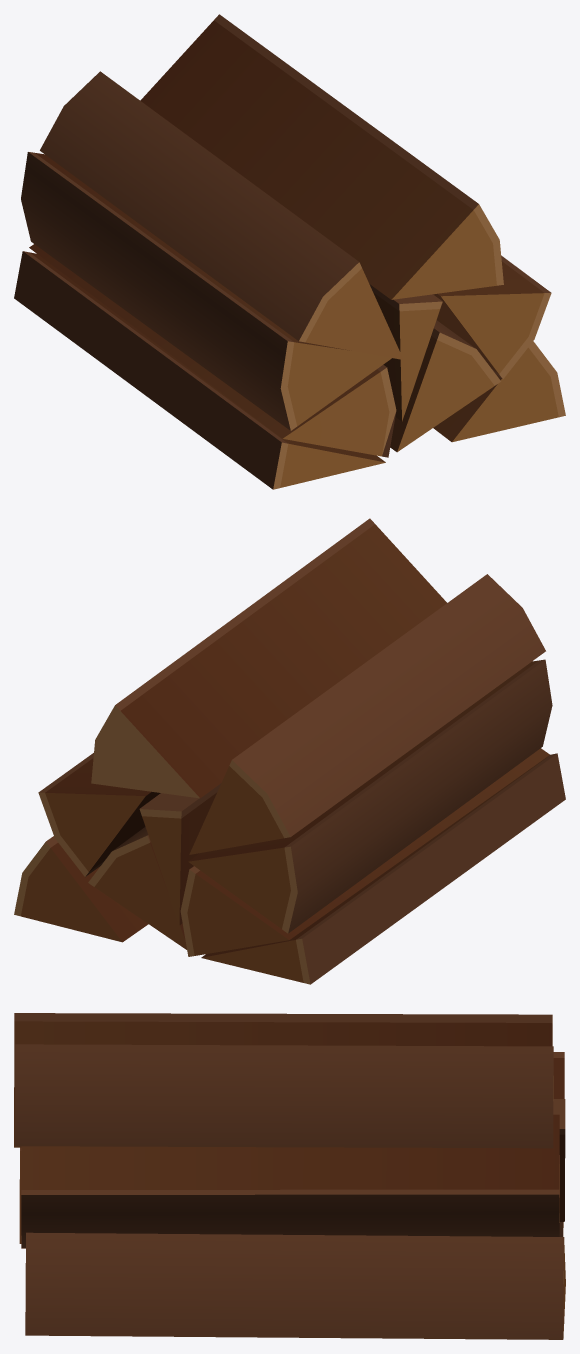
Rendered from firewood.fbx.
The picture shows the model from 3 angles, top to bottom: view 1: azimuth 30°, elevation 25°; view 2: azimuth 150°, elevation 25°; view 3: azimuth 270°, elevation 25°; orthographic projection. The views are drawn at different scales.
Parts seen in each view (by area): view 1: firewood; view 2: firewood; view 3: firewood.
Boxes of the visible parts, x1=… form: firewood: x1=14, y1=14, x2=565, y2=489; firewood: x1=14, y1=518, x2=565, y2=984; firewood: x1=14, y1=1013, x2=565, y2=1339.
Size of the model in its own units: 50.19 by 37.53 by 76.52.
